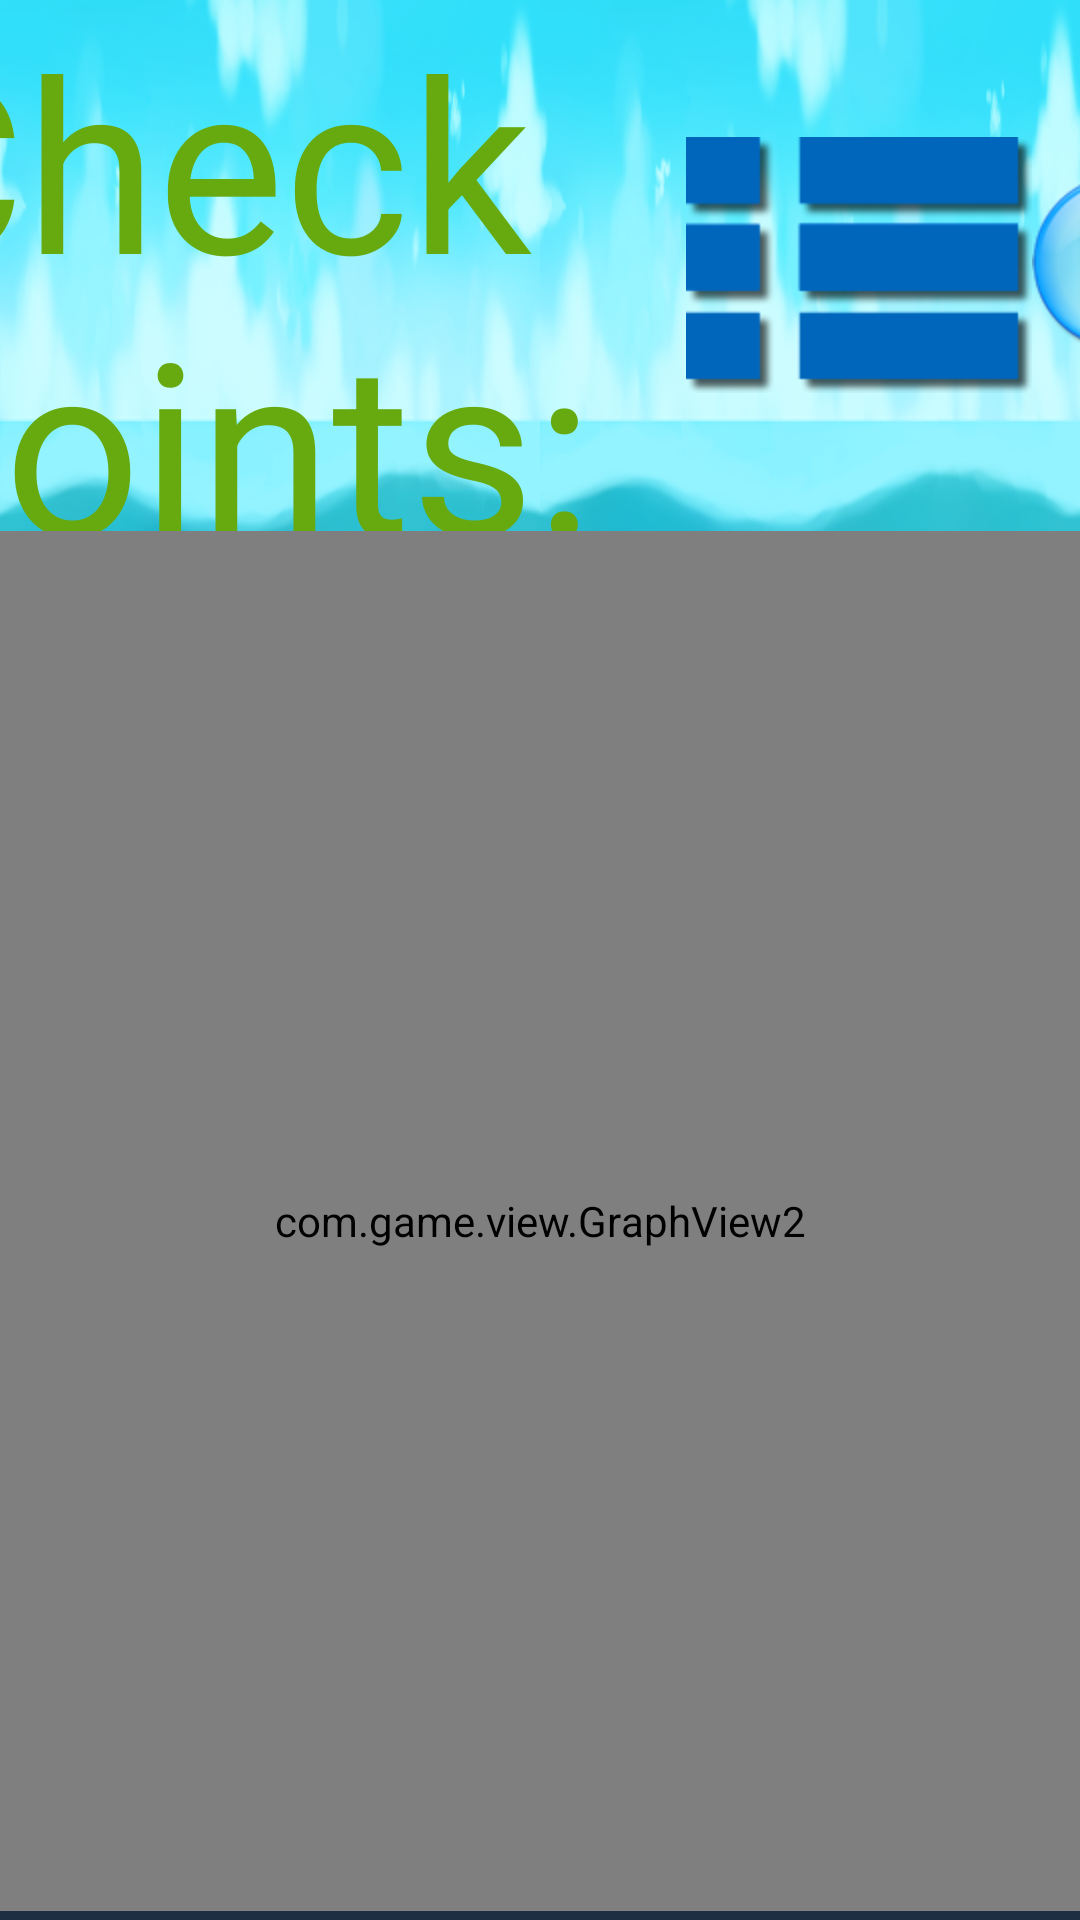

Point at icon controls on the screen. Image size 1080px x 1920px, points as (x=x, y=y).
list: (x=859, y=265)
